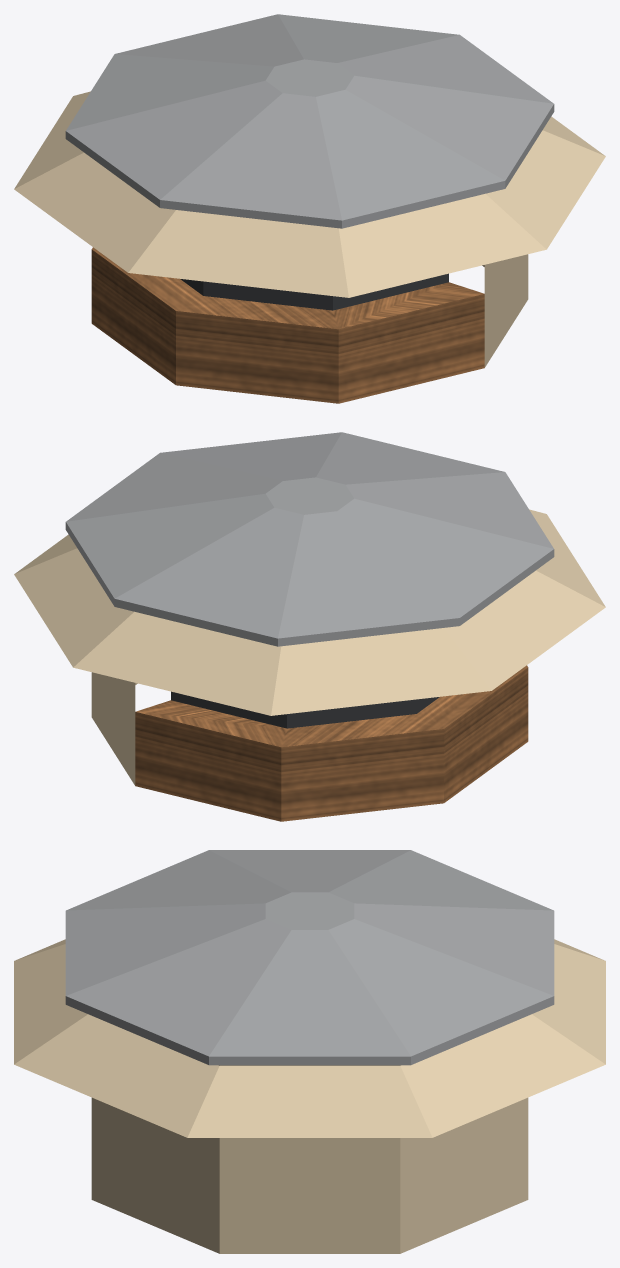
Rendered from SM_Morin_ChioscoOttagonale_LOD1.fbx.
The picture shows the model from 3 angles, top to bottom: view 1: azimuth 30°, elevation 25°; view 2: azimuth 150°, elevation 25°; view 3: azimuth 270°, elevation 25°; orthographic projection. The views are drawn at different scales.
Visible parts, largest first — view 1: SM_Morin_ChioscoOttagonale_LOD1; view 2: SM_Morin_ChioscoOttagonale_LOD1; view 3: SM_Morin_ChioscoOttagonale_LOD1.
Boxes of the visible parts, left/top/right/bottom form: SM_Morin_ChioscoOttagonale_LOD1: left=14, top=14, right=605, bottom=403; SM_Morin_ChioscoOttagonale_LOD1: left=14, top=432, right=605, bottom=821; SM_Morin_ChioscoOttagonale_LOD1: left=14, top=850, right=605, bottom=1253.
Size of the model in its own units: 739 by 739 by 345.
2 materials, 2 textured.
